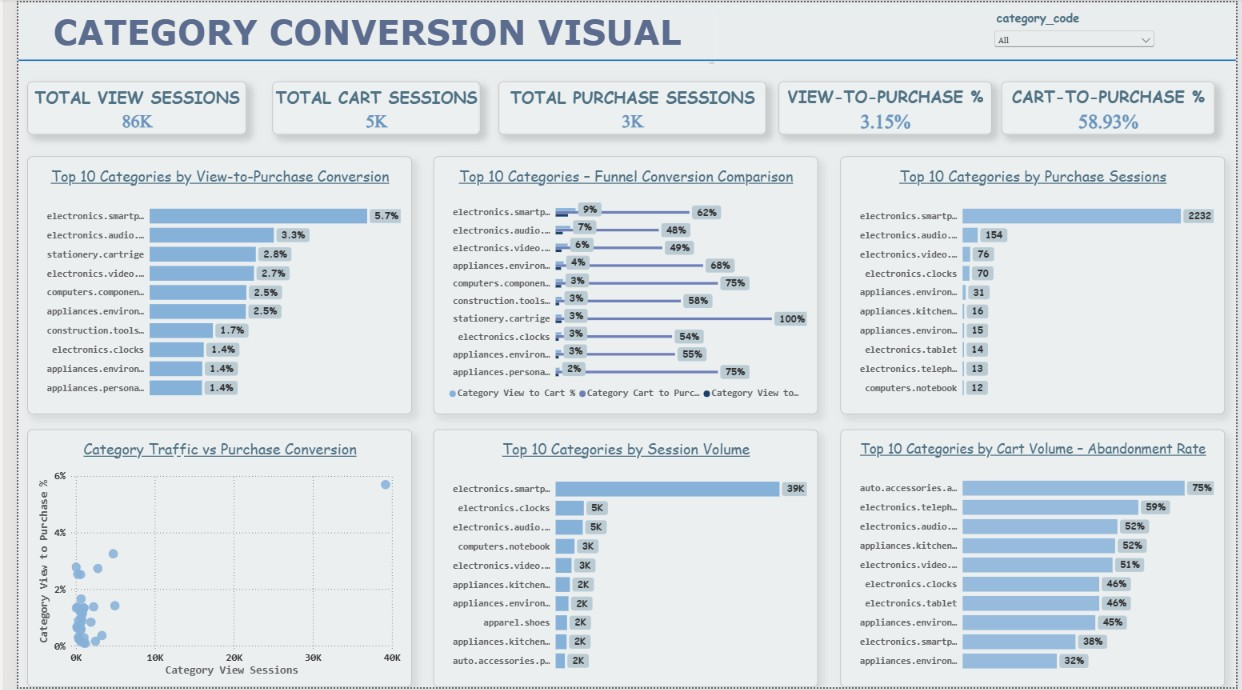

What the dashboard file says about the page in this screenshot:
{"tool":"powerbi","page":{"name":"Page 2","canvas":[1920,1080],"ordinal":1},"visuals":[{"type":"textbox","title":"CATEGORY CONVERSION VISUAL","box":[0,12.2,1098.8,85.5],"z":0},{"type":"clusteredBarChart","title":"Top 10 Categories by View-to-Purchase Conversion","fields":{"Category":["category_session_funnel.category_code"],"Y":["category_session_funnel.Category View to Purchase %"]},"box":[14,242.4,606,406],"z":1000},{"type":"scatterChart","title":"Category Traffic vs Purchase Conversion","fields":{"Category":["category_session_funnel.category_code"],"X":["category_session_funnel.Category View Sessions"],"Y":["category_session_funnel.Category View to Purchase %"]},"box":[14,673.3,606,406.4],"z":2000},{"type":"clusteredBarChart","title":"Top 10 Categories – Funnel Conversion Comparison","fields":{"Category":["category_session_funnel.category_code"],"Y":["category_session_funnel.Category View to Cart %","category_session_funnel.Category Cart to Purchase %","category_session_funnel.Category View to Purchase %"]},"box":[654.1,242.4,606,406],"z":3000},{"type":"clusteredBarChart","title":"Top 10 Categories by Session Volume","fields":{"Category":["category_session_funnel.category_code"],"Y":["category_session_funnel.Category View Sessions"]},"box":[654.1,673.3,606,406],"z":4000},{"type":"clusteredBarChart","title":"Top 10 Categories by Cart Volume – Abandonment Rate","fields":{"Category":["category_session_funnel.category_code"],"Y":["category_session_funnel.Category Cart Abandonment %"]},"box":[1295.9,673.3,606,406.4],"z":5000},{"type":"clusteredBarChart","title":"Top 10 Categories by Purchase Sessions","fields":{"Category":["category_session_funnel.category_code"],"Y":["category_session_funnel.Category Purchase Sessions"]},"box":[1295.9,242.4,606,406],"z":6000},{"type":"slicer","fields":{"Values":["category_session_funnel.category_code"]},"box":[1534.9,10.5,261.6,59.3],"z":7000},{"type":"shape","box":[0,69.8,1920.4,43.6],"z":8000},{"type":"cardVisual","title":"TOTAL VIEW SESSIONS","fields":{"Data":["category_session_funnel.Category View Sessions"]},"box":[14,123.8,345.3,83.7],"z":9000},{"type":"cardVisual","title":"TOTAL VIEW SESSIONS","fields":{"Data":["category_session_funnel.Category Cart Sessions"]},"box":[401.2,123.8,327.9,83.7],"z":10000},{"type":"cardVisual","title":"TOTAL VIEW SESSIONS","fields":{"Data":["category_session_funnel.Category Purchase Sessions"]},"box":[757,123.8,422.1,83.7],"z":11000},{"type":"cardVisual","fields":{"Data":["category_session_funnel.Category View to Purchase %"]},"box":[1198.3,123.8,336.6,83.7],"z":12000},{"type":"cardVisual","fields":{"Data":["category_session_funnel.Category Cart to Purchase %"]},"box":[1550.6,123.8,336.6,83.7],"z":13000}]}

Visuals, with their boxes in screenshot pixels (x1, y1, x2, y2), scaled from the page's 1920x1080 canvas onto the 1242x690 screenshot:
"CATEGORY CONVERSION VISUAL" textbox: box=[0, 8, 711, 62]
"Top 10 Categories by View-to-Purchase Conversion" clusteredBarChart: box=[9, 155, 401, 414]
"Category Traffic vs Purchase Conversion" scatterChart: box=[9, 430, 401, 689]
"Top 10 Categories – Funnel Conversion Comparison" clusteredBarChart: box=[423, 155, 815, 414]
"Top 10 Categories by Session Volume" clusteredBarChart: box=[423, 430, 815, 689]
"Top 10 Categories by Cart Volume – Abandonment Rate" clusteredBarChart: box=[838, 430, 1230, 689]
"Top 10 Categories by Purchase Sessions" clusteredBarChart: box=[838, 155, 1230, 414]
slicer - category_session_funnel.category_code: box=[993, 7, 1162, 45]
shape: box=[0, 45, 1241, 72]
"TOTAL VIEW SESSIONS" cardVisual: box=[9, 79, 232, 133]
"TOTAL VIEW SESSIONS" cardVisual: box=[260, 79, 472, 133]
"TOTAL VIEW SESSIONS" cardVisual: box=[490, 79, 763, 133]
cardVisual - category_session_funnel.Category View to Purchase %: box=[775, 79, 993, 133]
cardVisual - category_session_funnel.Category Cart to Purchase %: box=[1003, 79, 1221, 133]
